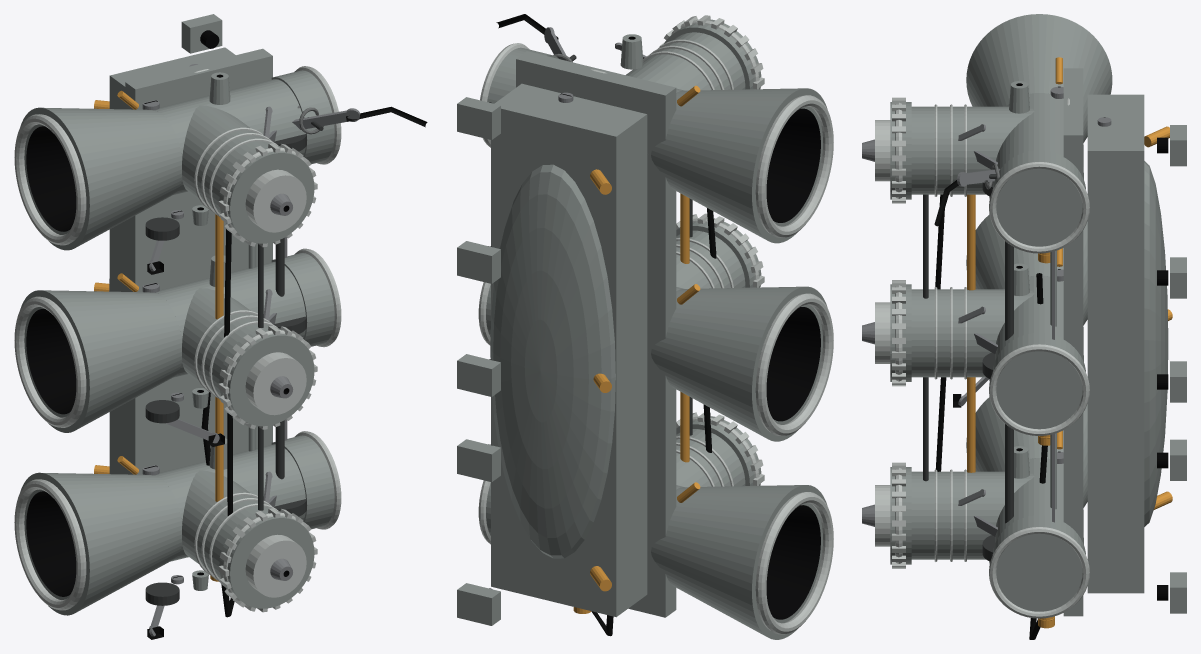
File: carb_triple_01_street_bigbody.obj
3 renders of one model, left to right at view 1: azimuth 30°, elevation 25°; view 2: azimuth 150°, elevation 25°; view 3: azimuth 270°, elevation 25°, orthographic. The views are drawn at different scales.
Visible parts, largest first — view 1: shared_base_plate, street_1_bellmouth, street_2_bellmouth, street_0_bellmouth, street_2_venturi_body, street_2_slide_tower, street_0_slide_tower, shared_float_bowl_upper, street_1_slide_tower, street_1_venturi_body, street_0_bellmouth_inner, street_2_bellmouth_inner (+29 smaller); view 2: shared_float_bowl_upper, shared_float_bowl_lower, shared_base_plate, street_1_bellmouth, street_0_bellmouth, street_2_bellmouth, mount_foot, street_0_bellmouth_inner, street_1_bellmouth_inner, street_2_bellmouth_inner, street_2_slide_tower, street_0_bell_lip (+15 smaller); view 3: shared_float_bowl_upper, street_2_bellmouth, street_1_slide_tower, street_0_slide_tower, shared_base_plate, street_2_slide_tower, shared_float_bowl_lower, street_0_rear_spigot, street_2_rear_spigot, street_1_rear_spigot, mount_foot, street_1_bellmouth (+23 smaller).
Boxes of the visible parts, x1,y1,x2,y2 form: shared_base_plate: [125, 48, 272, 561]; street_1_bellmouth: [43, 290, 182, 429]; street_2_bellmouth: [42, 107, 182, 247]; street_0_bellmouth: [40, 472, 182, 612]; street_2_venturi_body: [156, 79, 305, 194]; street_2_slide_tower: [182, 105, 269, 213]; street_0_slide_tower: [182, 470, 269, 578]; shared_float_bowl_upper: [109, 47, 235, 474]; street_1_slide_tower: [182, 288, 269, 396]; street_1_venturi_body: [156, 261, 305, 377]; street_0_bellmouth_inner: [26, 491, 76, 596]; street_2_bellmouth_inner: [26, 126, 76, 231]; shared_float_bowl_upper: [491, 83, 647, 617]; shared_float_bowl_lower: [490, 164, 615, 558]; shared_base_plate: [516, 51, 676, 617]; street_1_bellmouth: [651, 286, 803, 438]; street_0_bellmouth: [651, 485, 802, 636]; street_2_bellmouth: [651, 88, 803, 240]; mount_foot: [457, 97, 500, 625]; street_0_bellmouth_inner: [766, 505, 820, 619]; street_1_bellmouth_inner: [766, 307, 820, 421]; street_2_bellmouth_inner: [766, 108, 820, 222]; street_2_slide_tower: [625, 32, 745, 90]; street_0_bell_lip: [755, 492, 833, 634]; shared_float_bowl_upper: [1087, 94, 1144, 593]; street_2_bellmouth: [966, 14, 1112, 142]; street_1_slide_tower: [911, 289, 1035, 377]; street_0_slide_tower: [911, 471, 1035, 559]; shared_base_plate: [1063, 68, 1083, 616]; street_2_slide_tower: [911, 106, 1035, 194]; shared_float_bowl_lower: [1144, 161, 1168, 526]; street_0_rear_spigot: [992, 515, 1085, 611]; street_2_rear_spigot: [992, 150, 1085, 246]; street_1_rear_spigot: [992, 332, 1085, 429]; mount_foot: [1170, 125, 1186, 613]; street_1_bellmouth: [966, 214, 1087, 325].
Bounding box in the file's own units: 0.2694 × 0.4266 × 0.229.
